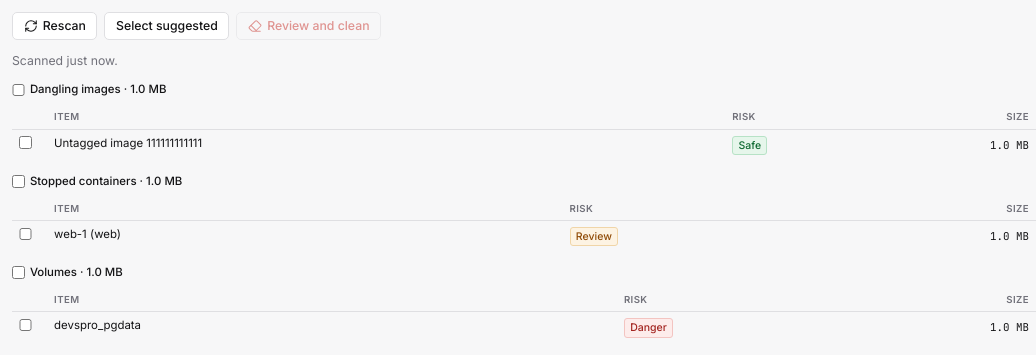
Test case: DockerTab › selects only the suggested findings
expect the text "web-1 (web)" is shown: met, box [54,227,121,241]
Step 1. Click the button "Select suggested" → (167, 26), box [104,12,229,40]
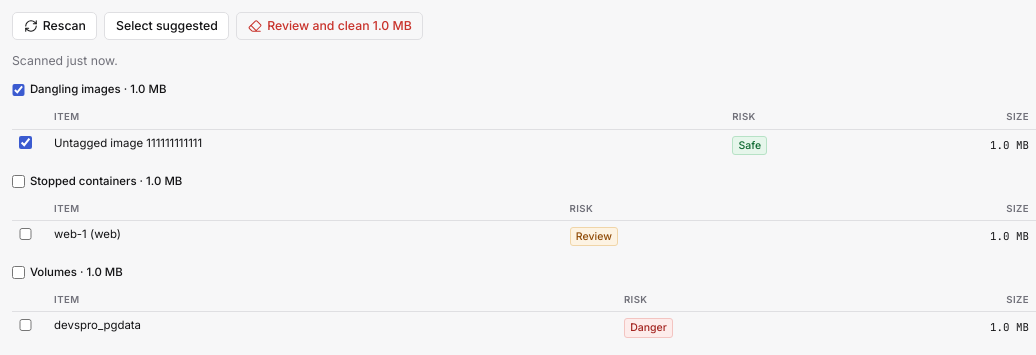
expect the checkbox named "Select web-1 (web)" is not checked: met, box [19,228,32,240]
expect the checkbox named "Select Untagged image 111111111111" is checked: met, box [19,136,32,149]
